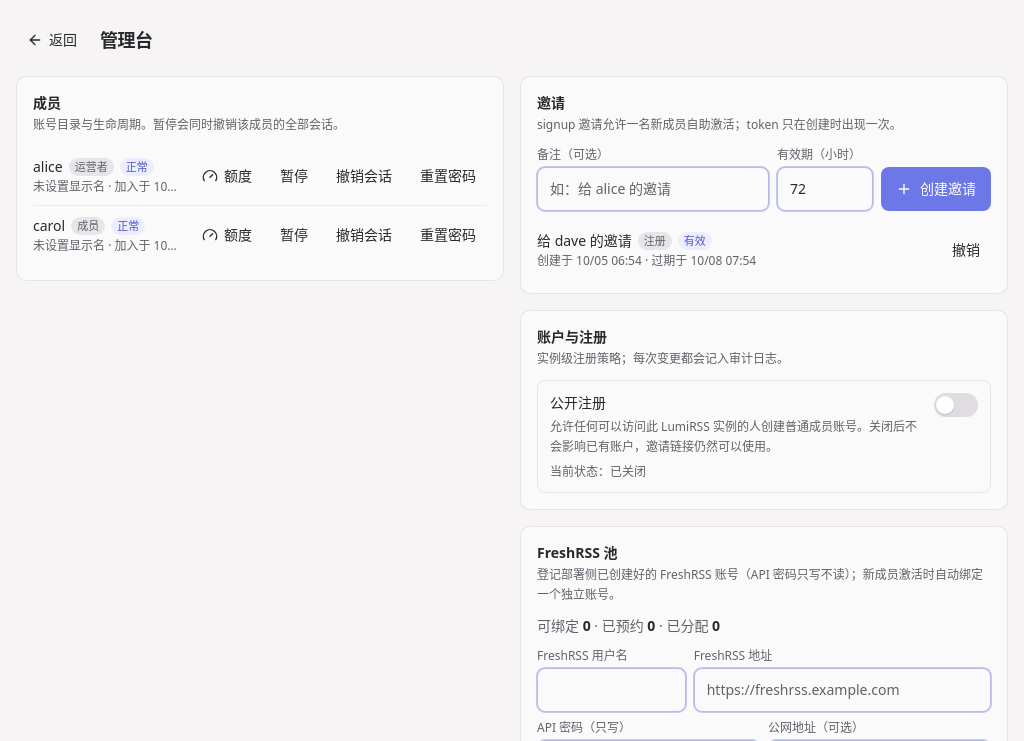
it: FIX-054: 危险操作不占主按钮位（行内 ghost、确认键 danger） › 确认对话框实际渲染 danger 键、主键位（accent）不在对话框中
This screenshot has width=1024, height=741.
Expected: the list with test id "admin-invite-list" is shown, [537, 222, 991, 276]
Click the button "撤销": (966, 250) [941, 234, 991, 266]
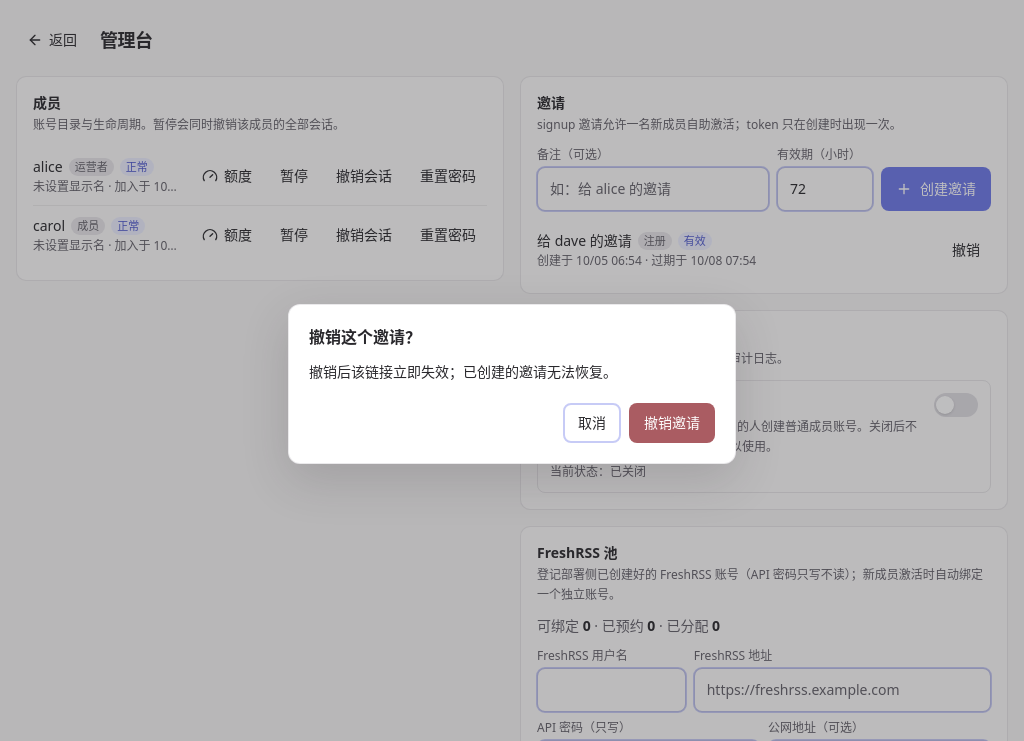
Now the button "取消" is shown, box [563, 403, 621, 443]
